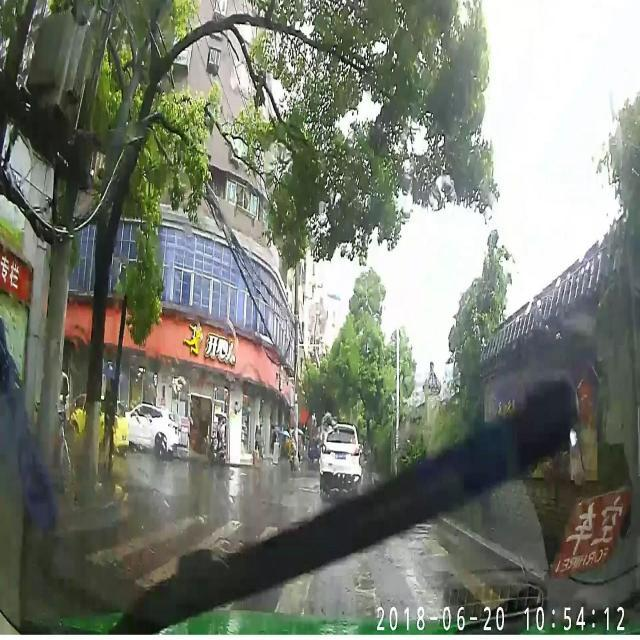car: (68, 393, 128, 458), (120, 400, 178, 460), (320, 420, 362, 498)
